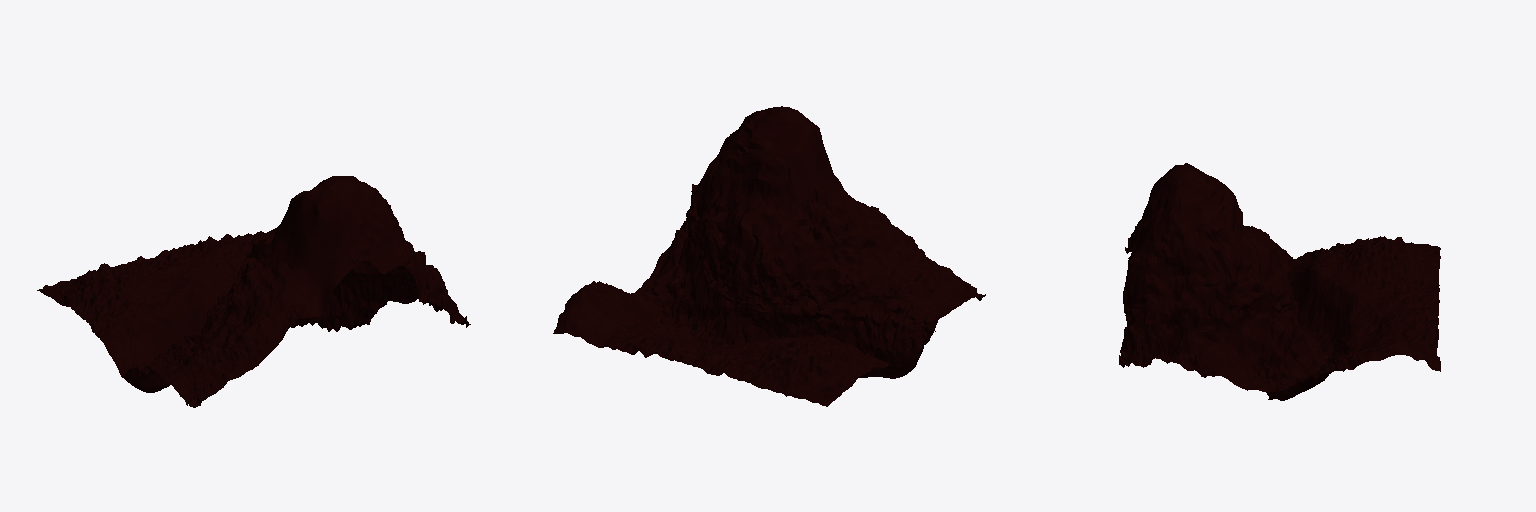
File: Map.obj
3 renders of one model, left to right at view 1: azimuth 30°, elevation 25°; view 2: azimuth 150°, elevation 25°; view 3: azimuth 270°, elevation 25°, orthographic.
Parts seen in each view (by area): view 1: pPlane1; view 2: pPlane1; view 3: pPlane1.
Boxes of the visible parts, x1,y1,x2,y2 form: pPlane1: [37, 176, 470, 407]; pPlane1: [553, 106, 985, 406]; pPlane1: [1119, 163, 1440, 400].
Bounding box in the file's own units: 1573 × 1087 × 1529.